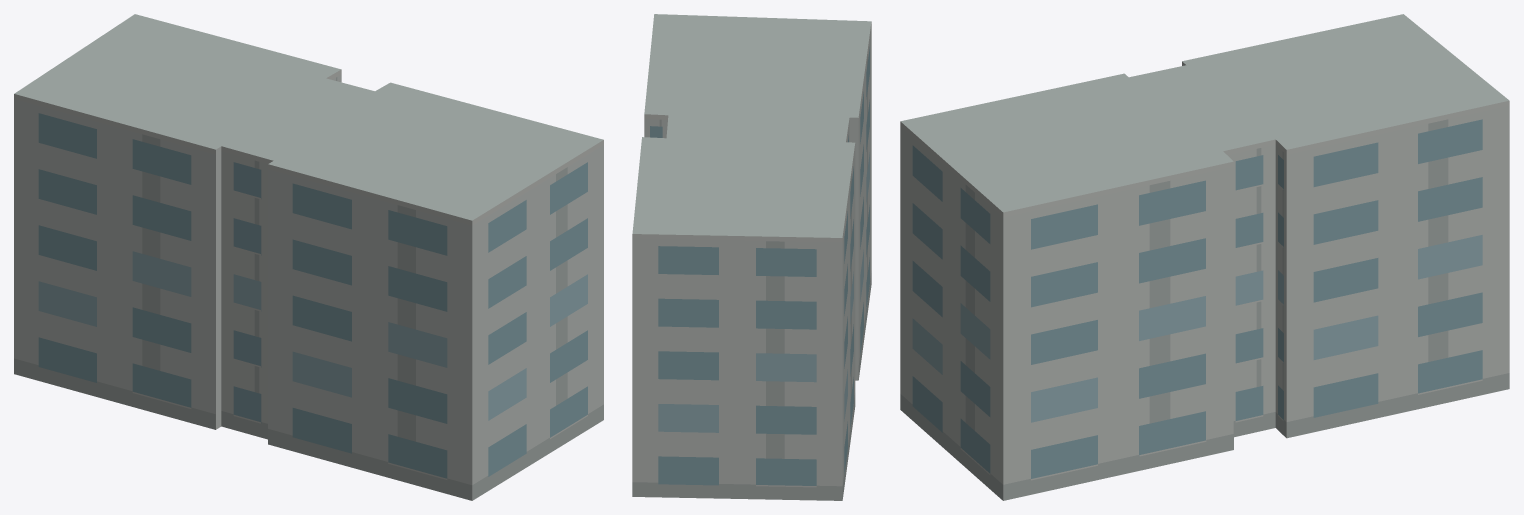
File: survey-upis-32841641.glb
The picture shows the model from 3 angles, left to right: view 1: azimuth 30°, elevation 25°; view 2: azimuth 150°, elevation 25°; view 3: azimuth 270°, elevation 25°; orthographic projection. The views are drawn at different scales.
Parts seen in each view (by area): view 1: survey-upis-32841641.tmp; view 2: survey-upis-32841641.tmp; view 3: survey-upis-32841641.tmp.
Boxes of the visible parts, x1,y1,x2,y2 form: survey-upis-32841641.tmp: (14,14,603,500); survey-upis-32841641.tmp: (632,14,871,500); survey-upis-32841641.tmp: (900,14,1509,500).
Size of the model in its own units: 20.23 by 13.7 by 26.24.
